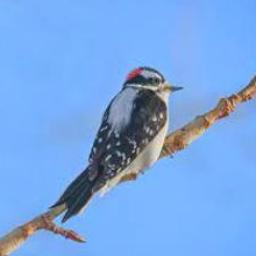Woodpecker: (50, 66, 184, 222)
